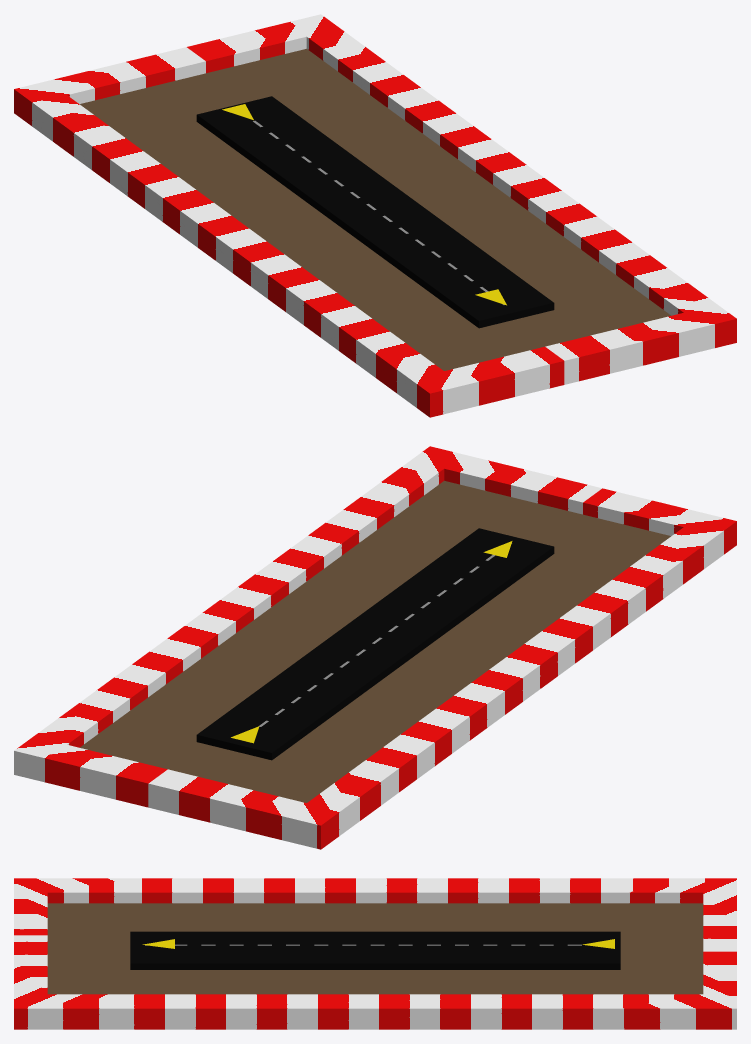
File: alef.FBX
The picture shows the model from 3 angles, top to bottom: view 1: azimuth 30°, elevation 25°; view 2: azimuth 150°, elevation 25°; view 3: azimuth 270°, elevation 25°; orthographic projection. The views are drawn at different scales.
Visible parts, largest first — view 1: alf_coll, alf_floor, alf; view 2: alf_coll, alf_floor, alf; view 3: alf_coll, alf_floor, alf, Line0.
Boxes of the visible parts, x1=… form: alf_coll: x1=14, y1=14, x2=736, y2=417; alf_floor: x1=80, y1=48, x2=670, y2=370; alf: x1=196, y1=96, x2=554, y2=328; alf_coll: x1=14, y1=446, x2=736, y2=849; alf_floor: x1=80, y1=480, x2=670, y2=802; alf: x1=196, y1=528, x2=554, y2=760; alf_coll: x1=14, y1=878, x2=736, y2=1029; alf_floor: x1=47, y1=903, x2=703, y2=994; alf: x1=130, y1=931, x2=620, y2=969; Line0: x1=145, y1=944, x2=581, y2=945.
Bounding box in the file's own units: 437 × 32.76 × 1026.
